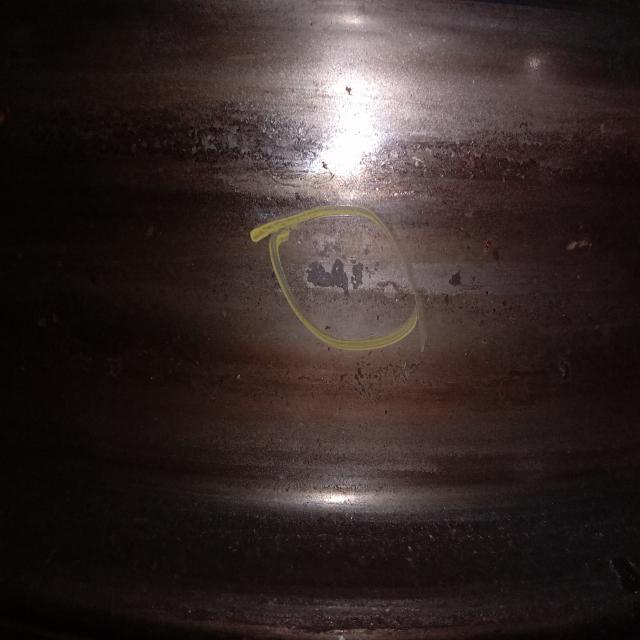Peeling: (307, 238, 381, 295)
